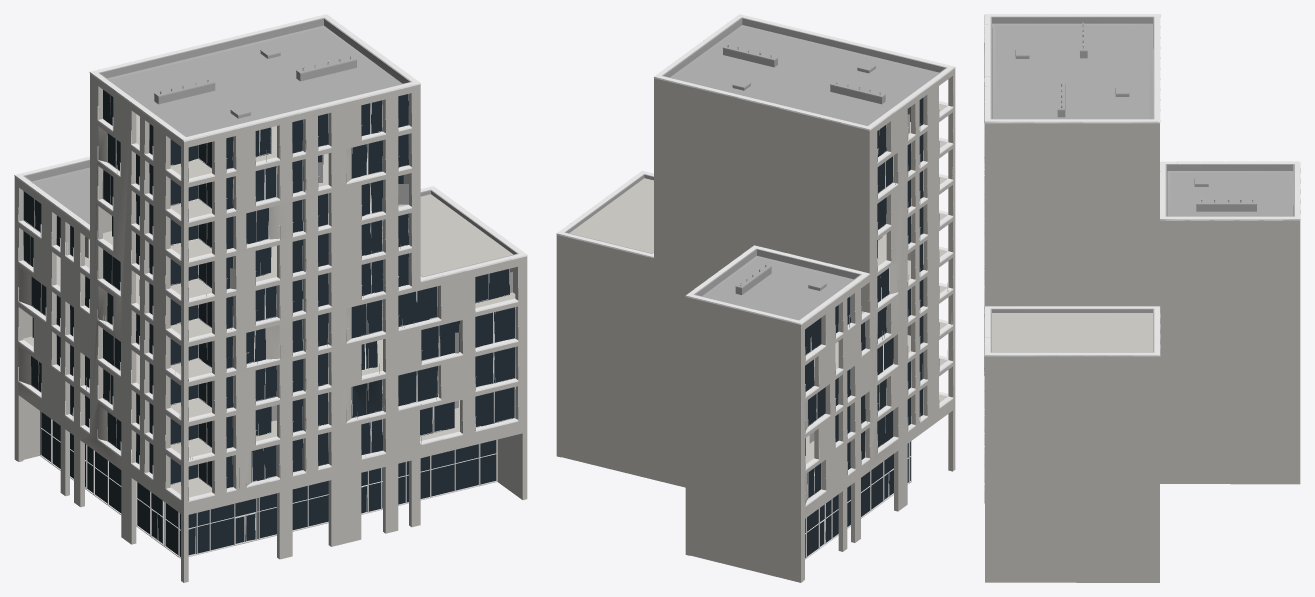
File: modernblock.glb
3 views of the same model, side by side, from view 1: azimuth 30°, elevation 25°; view 2: azimuth 150°, elevation 25°; view 3: azimuth 270°, elevation 25° (orthographic). The views are drawn at different scales.
Visible parts, largest first — view 1: -_FACADE; view 2: -_FACADE; view 3: -_FACADE.
Boxes of the visible parts, box(x1,y1,x2,y2) form: -_FACADE: box(14, 14, 527, 582); -_FACADE: box(556, 14, 955, 582); -_FACADE: box(984, 14, 1300, 582).
Bounding box in the file's own units: 29.65 × 36.84 × 25.33.
